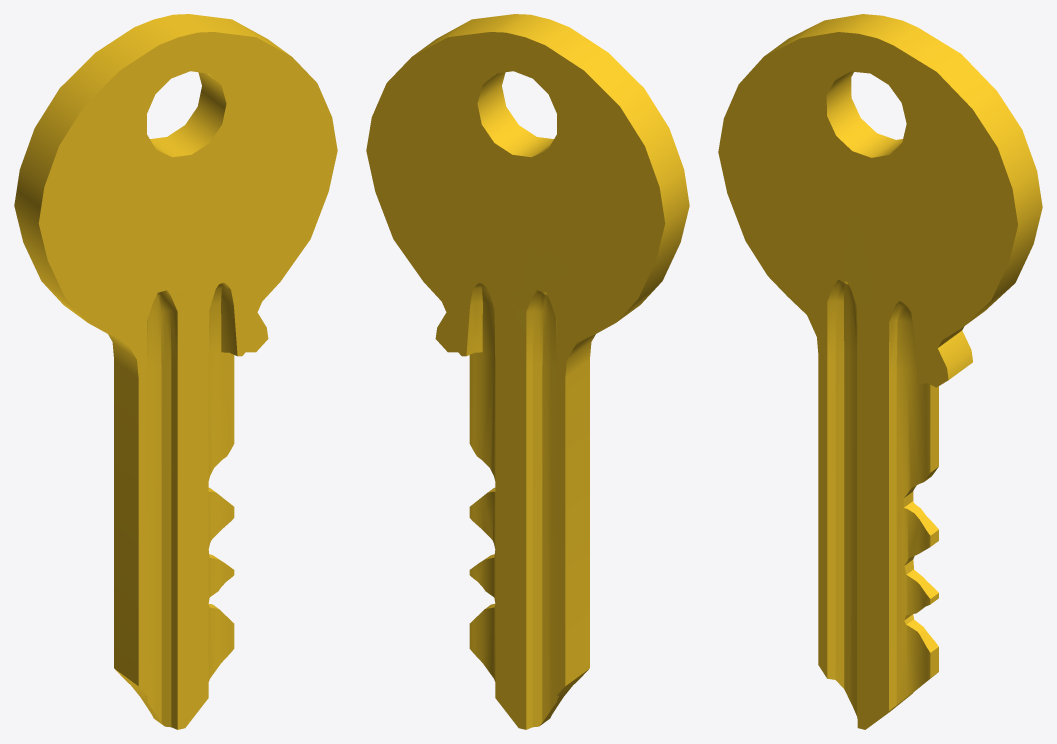
File: Chave.fbx
The picture shows the model from 3 angles, left to right: view 1: azimuth 30°, elevation 25°; view 2: azimuth 150°, elevation 25°; view 3: azimuth 330°, elevation 25°; orthographic projection.
Visible parts, largest first — view 1: Key 3 lp; view 2: Key 3 lp; view 3: Key 3 lp.
Part boxes in pixels (left/top/right/bottom): Key 3 lp: left=14, top=14, right=337, bottom=729; Key 3 lp: left=366, top=14, right=689, bottom=729; Key 3 lp: left=718, top=14, right=1042, bottom=729.
Bounding box in the file's own units: 85.33 × 189 × 12.09.
